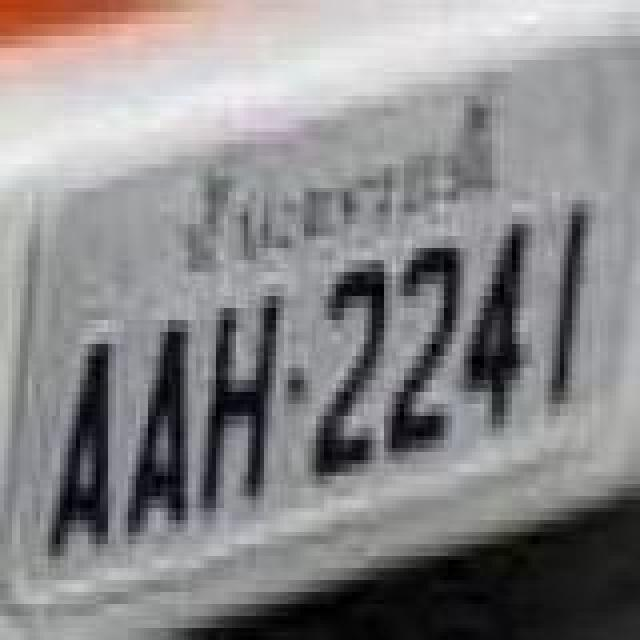1: (544, 200, 592, 416)
2: (304, 262, 384, 490), (384, 238, 464, 466)
4: (462, 222, 530, 434)
A: (42, 334, 118, 562), (126, 310, 194, 538)
H: (196, 286, 284, 514)
